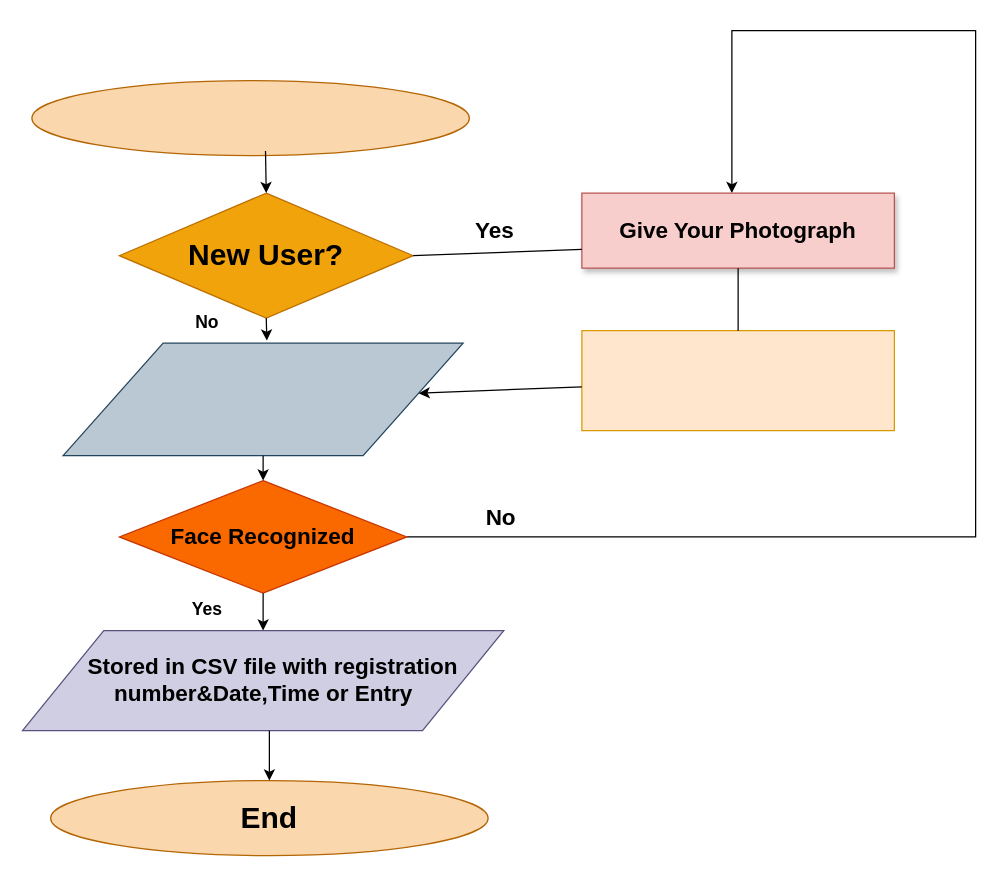
This 1008x878 diagram has some shape labels left out. The centre of each missing label's shape, as x and y in pixels:
"Recognize the Face" goes at point 262,399.
"Start" goes at point 250,117.
"Store the Face Data in Folder On Your Name" goes at point 737,380.
